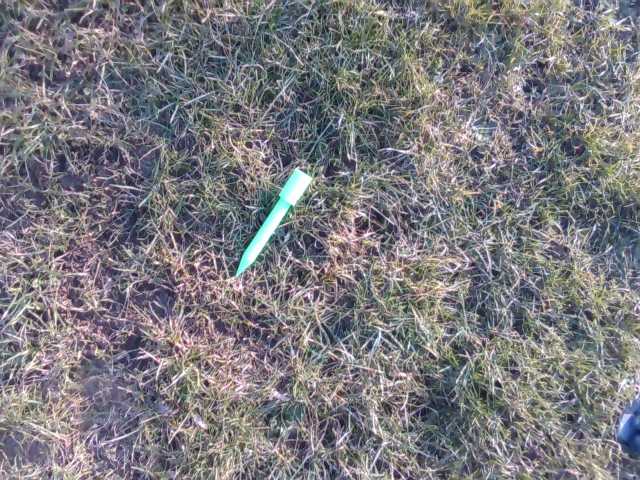Probe: (229, 158, 316, 283)
